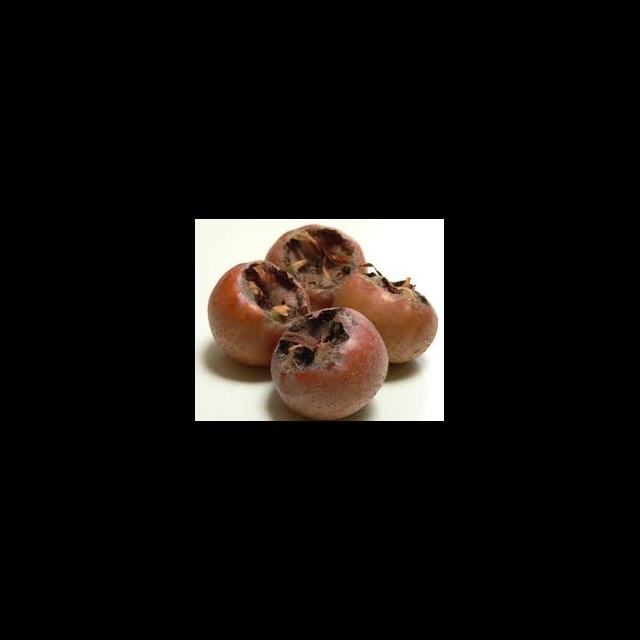food_waste: (198, 219, 444, 421)
